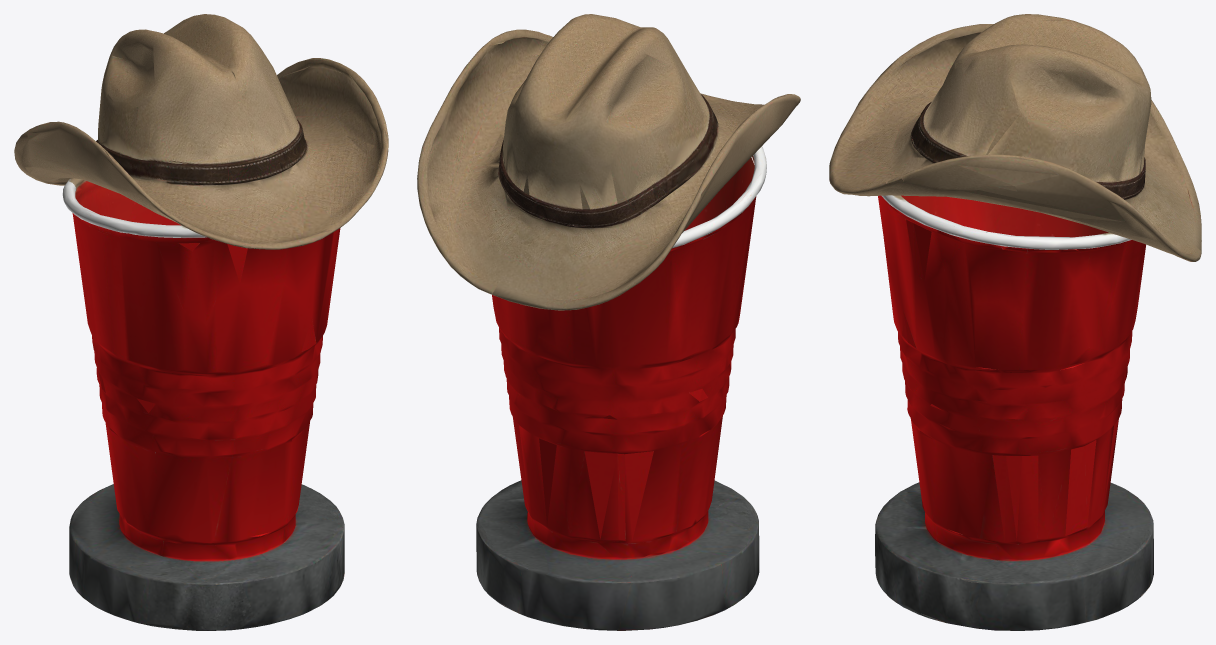
Rendered from solocup.glb.
The picture shows the model from 3 angles, left to right: view 1: azimuth 30°, elevation 25°; view 2: azimuth 150°, elevation 25°; view 3: azimuth 270°, elevation 25°; orthographic projection. The views are drawn at different scales.
Parts seen in each view (by area): view 1: output_unwrapped; view 2: output_unwrapped; view 3: output_unwrapped.
Boxes of the visible parts, x1,y1,x2,y2 form: output_unwrapped: (14,14,388,630); output_unwrapped: (417,14,800,630); output_unwrapped: (829,14,1201,630).
Size of the model in its own units: 5.24 by 10 by 6.22.
1 material, 1 textured.
